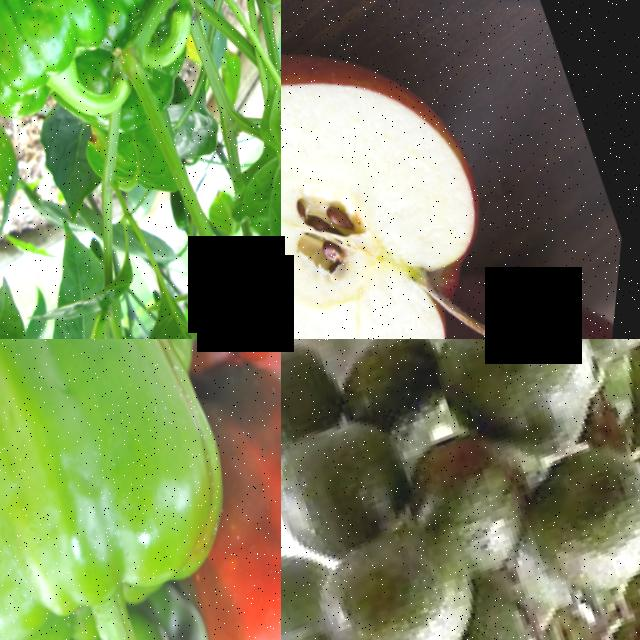apple: (281, 0, 570, 339), (374, 278, 622, 339)
avocado: (402, 339, 640, 500), (294, 483, 518, 640), (281, 387, 446, 582), (392, 417, 563, 604), (506, 414, 640, 619), (316, 339, 459, 454), (395, 576, 575, 640), (281, 339, 365, 474), (281, 544, 363, 640), (556, 339, 640, 391)
bell pepper: (0, 339, 264, 640), (207, 377, 281, 640), (0, 0, 142, 128)
